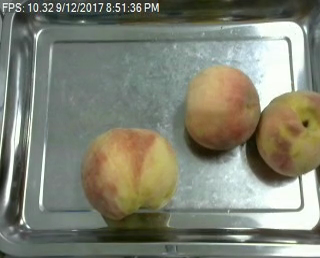Peach: (80, 126, 178, 220), (184, 65, 259, 151), (256, 89, 319, 177)
